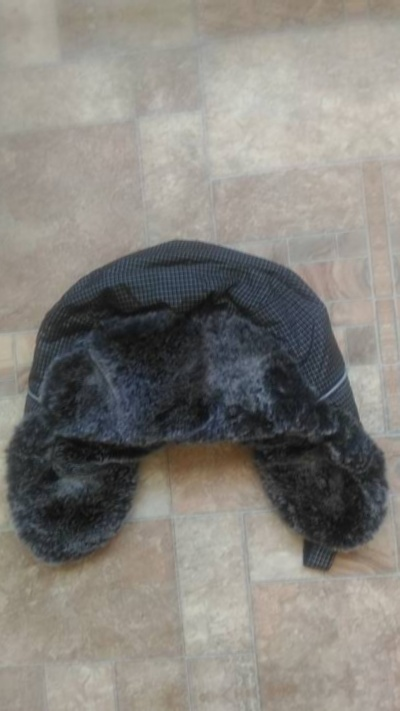Hat: (0, 190, 396, 612), (390, 150, 400, 572)
